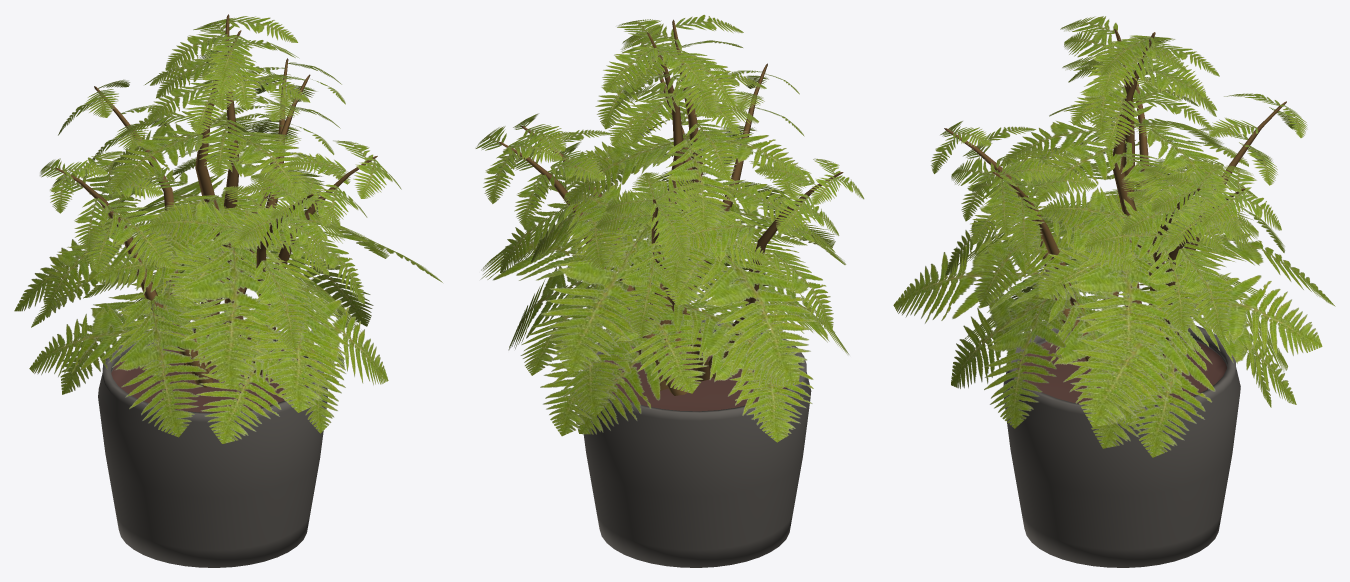
The model's file is plant_pot.glb.
The picture shows the model from 3 angles, left to right: view 1: azimuth 30°, elevation 25°; view 2: azimuth 150°, elevation 25°; view 3: azimuth 270°, elevation 25°; orthographic projection. The views are drawn at different scales.
Parts seen in each view (by area): view 1: Leaves_0001, Leaves_0002, PlantPot_0001, Branches_0001, Branches_0002, Dirt_0001; view 2: Leaves_0002, Leaves_0001, PlantPot_0001, Branches_0002, Dirt_0001, Branches_0001; view 3: Leaves_0001, Leaves_0002, PlantPot_0001, Dirt_0001, Branches_0002, Branches_0001.
Boxes of the visible parts, x1=… form: Leaves_0001: x1=14, y1=34, x2=401, y2=437; Leaves_0002: x1=31, y1=16, x2=442, y2=443; PlantPot_0001: x1=98, y1=323, x2=327, y2=567; Branches_0001: x1=55, y1=30, x2=377, y2=387; Branches_0002: x1=94, y1=14, x2=313, y2=379; Dirt_0001: x1=111, y1=345, x2=312, y2=412; Leaves_0002: x1=475, y1=19, x2=846, y2=437; Leaves_0001: x1=495, y1=14, x2=864, y2=442; PlantPot_0001: x1=581, y1=320, x2=811, y2=567; Branches_0002: x1=498, y1=32, x2=767, y2=390; Dirt_0001: x1=604, y1=345, x2=786, y2=411; Branches_0001: x1=520, y1=19, x2=843, y2=395; Leaves_0001: x1=893, y1=16, x2=1322, y2=448; Leaves_0002: x1=931, y1=35, x2=1335, y2=457; PlantPot_0001: x1=1003, y1=314, x2=1240, y2=567; Dirt_0001: x1=1017, y1=332, x2=1226, y2=406; Branches_0002: x1=944, y1=32, x2=1286, y2=387; Branches_0001: x1=992, y1=29, x2=1200, y2=344.
Bounding box in the file's own units: 0.6184 × 0.768 × 0.6026.
2 materials, 2 textured.
